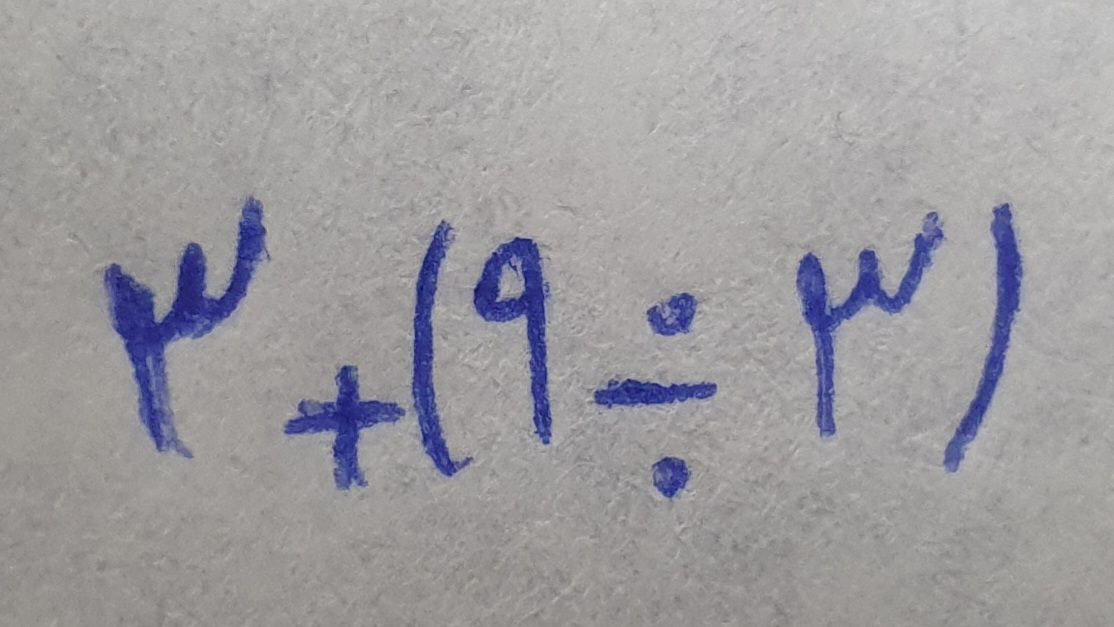character: (103, 197, 266, 458), (798, 212, 945, 437), (594, 292, 717, 497), (943, 204, 1026, 474), (473, 238, 552, 451), (284, 367, 407, 490), (412, 222, 462, 478)
